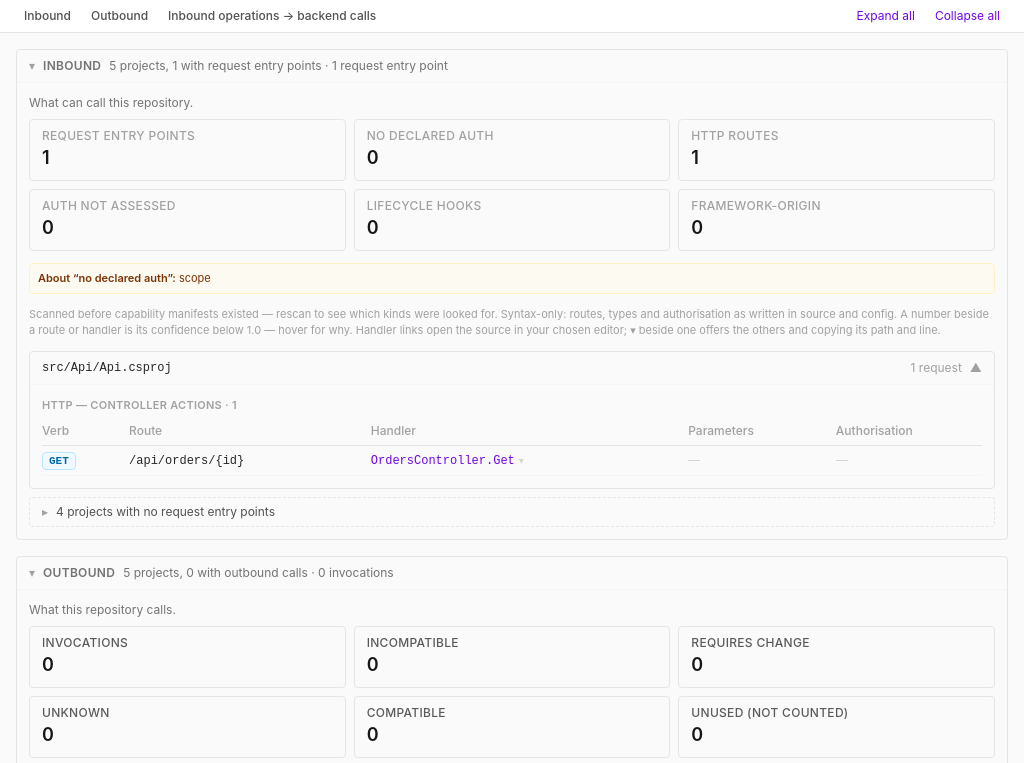
Test case: RepositorySurfaceSection › lists projects a page at a time, and a project's routes from its own list
Expected: the text "src/Api/Api.csproj" is shown, [42,360,172,376]
Expected: the text "/api/orders/{id}" is shown, [129,454,244,468]
Click the button "4 projects with no request entry points". click: {"x": 166, "y": 512}
box: [42,504,982,520]
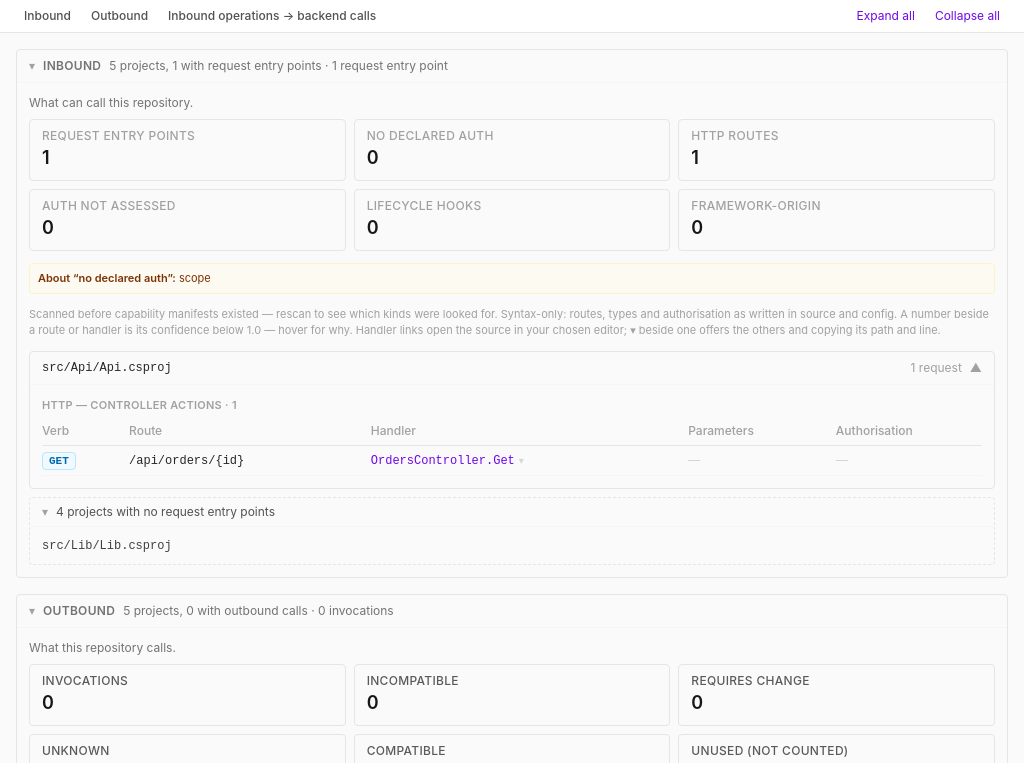
Now the text "src/Lib/Lib.csproj" is shown, box [42,539,172,553]
